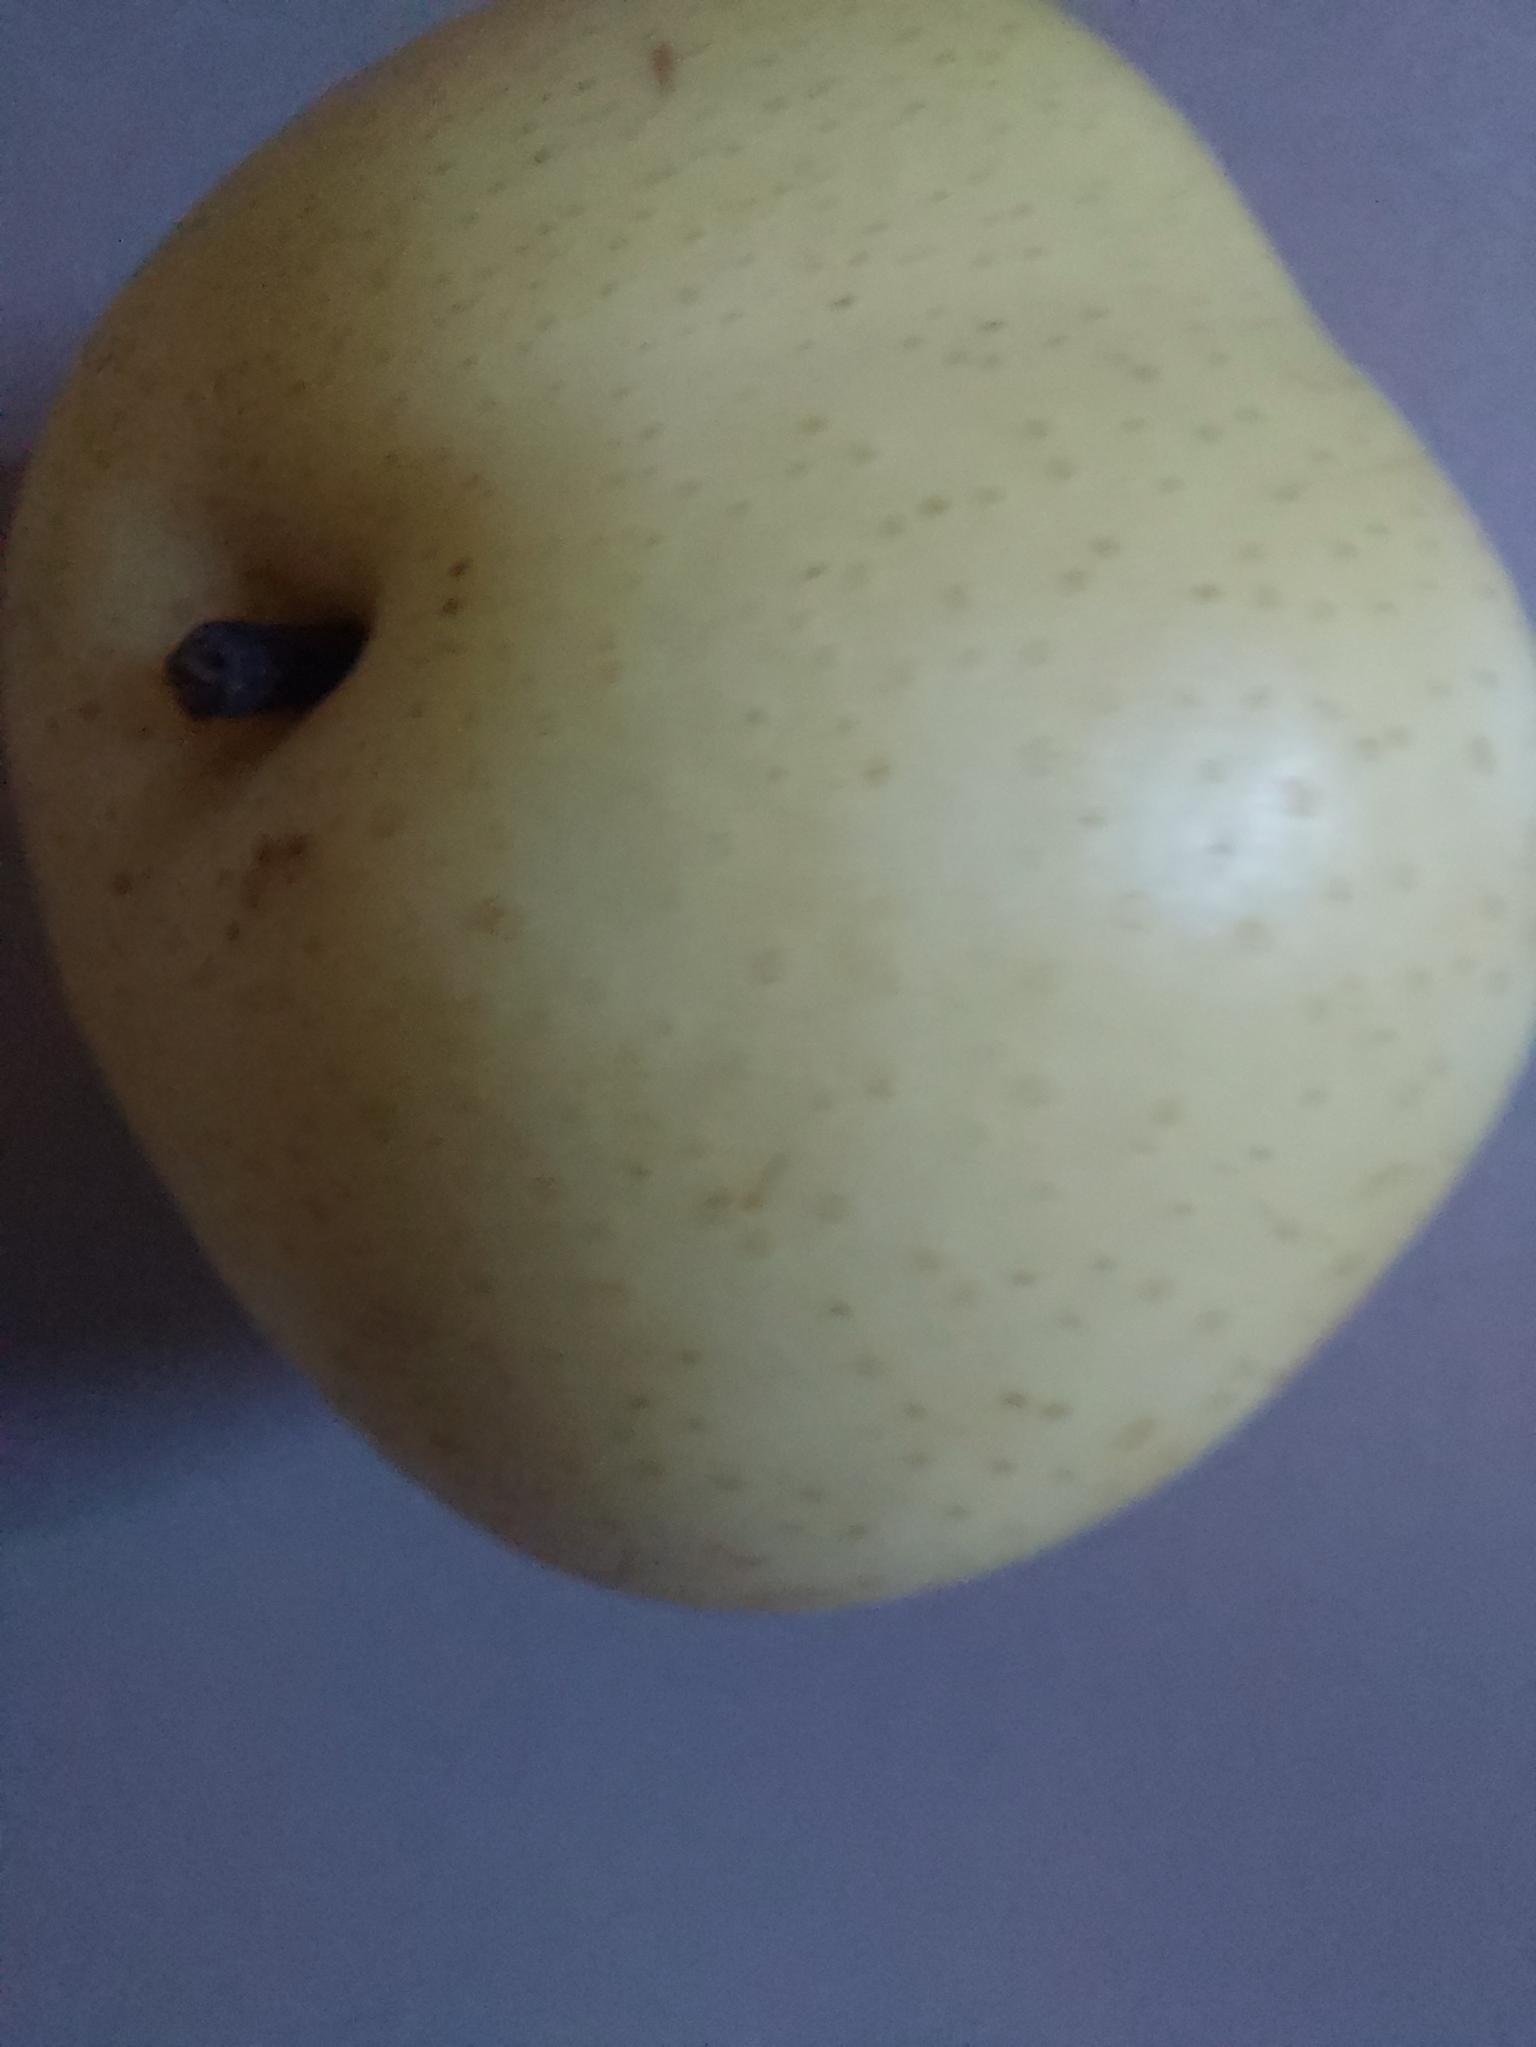Good Pear: (0, 0, 1536, 1634)
